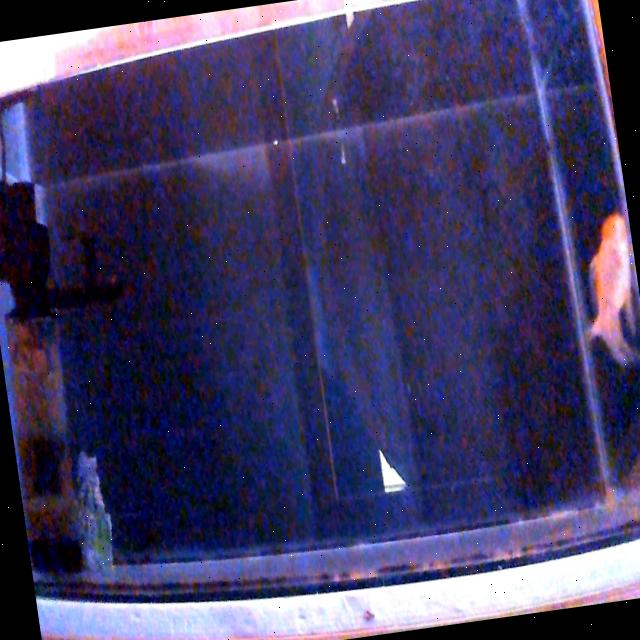fish: (572, 210, 640, 371)
